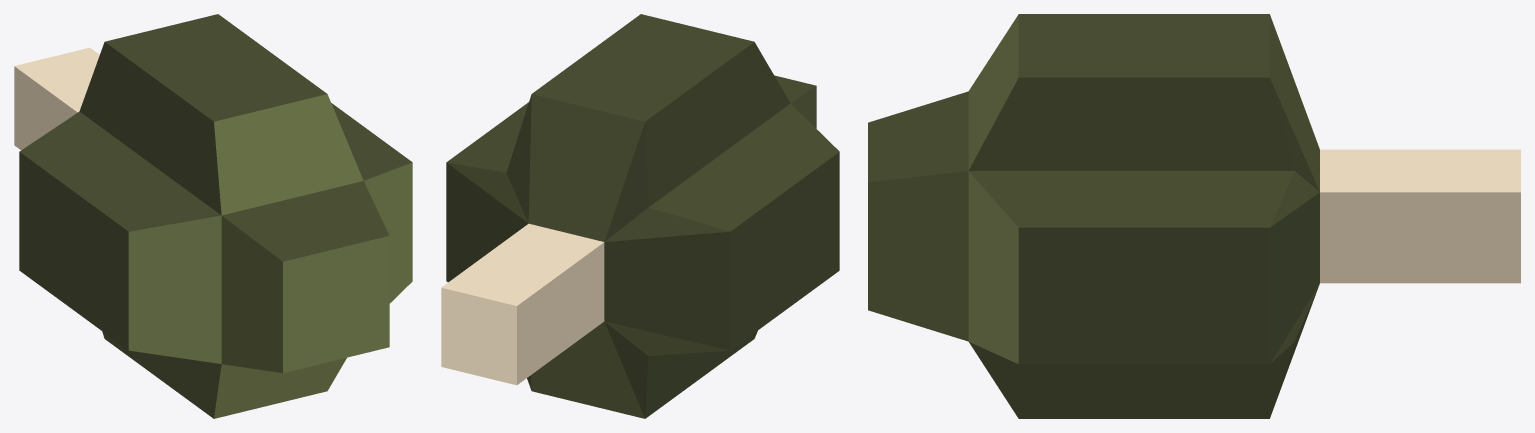
The model's file is step_0.glb.
3 views of the same model, side by side, from view 1: azimuth 30°, elevation 25°; view 2: azimuth 150°, elevation 25°; view 3: azimuth 270°, elevation 25° (orthographic). The views are drawn at different scales.
Parts seen in each view (by area): view 1: wood.medium.1; view 2: wood.medium.1; view 3: wood.medium.1.
Part boxes in pixels (x1,y1,x2,y2): wood.medium.1: [14, 14, 412, 418]; wood.medium.1: [441, 14, 839, 418]; wood.medium.1: [868, 14, 1520, 418].
Bounding box in the file's own units: 0.75 × 0.75 × 1.3.
